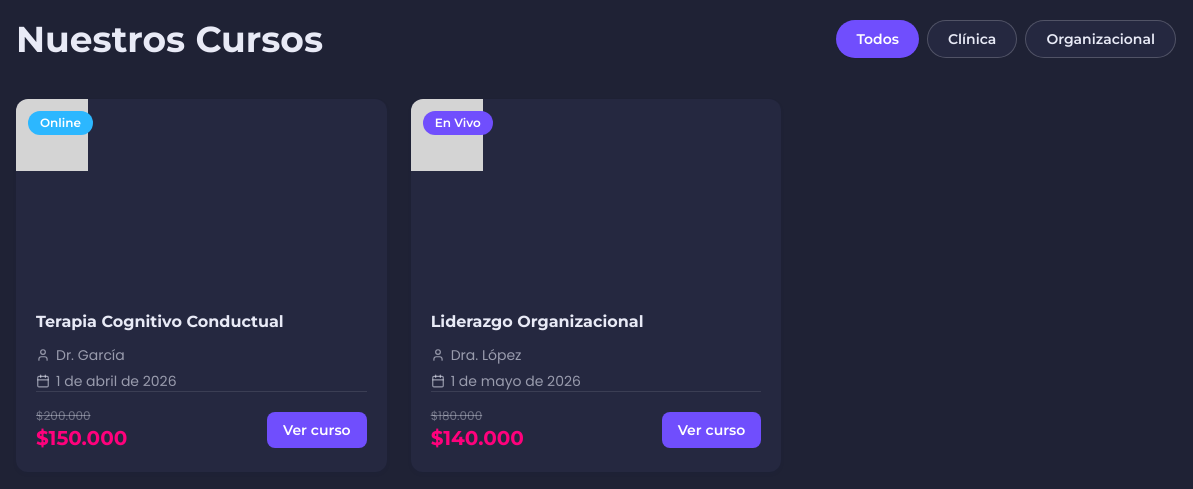
Scenario: CoursesSection › shows only the selected category's courses after clicking a category pill
Click the "Clínica" category pill
Click the button "Clínica". click: [972, 39]
box: [927,20,1017,58]
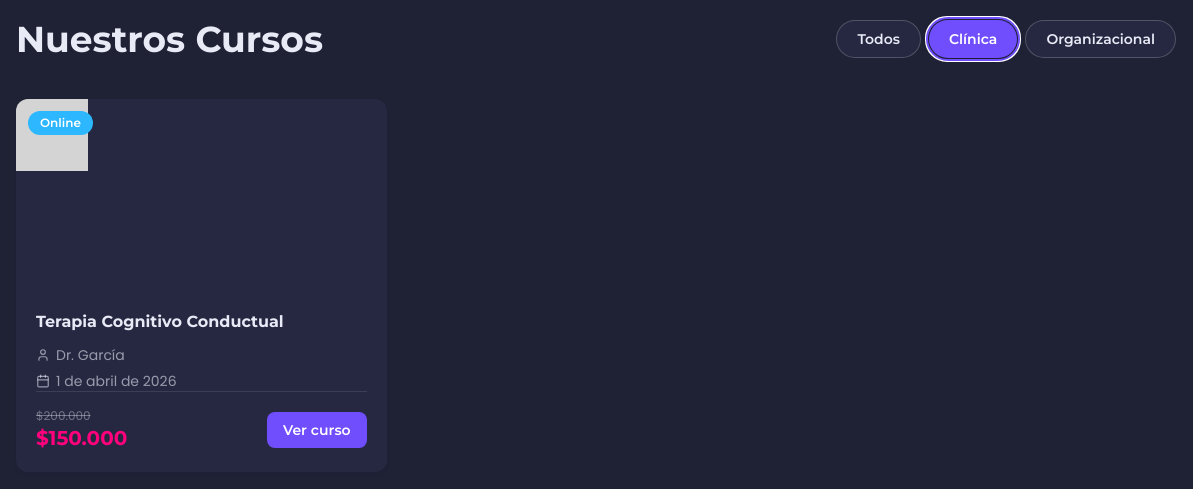
expect the heading "Terapia Cognitivo Conductual" is shown: met, box [36,312,284,331]
expect the heading "Liderazgo Organizacional" is gone: met
